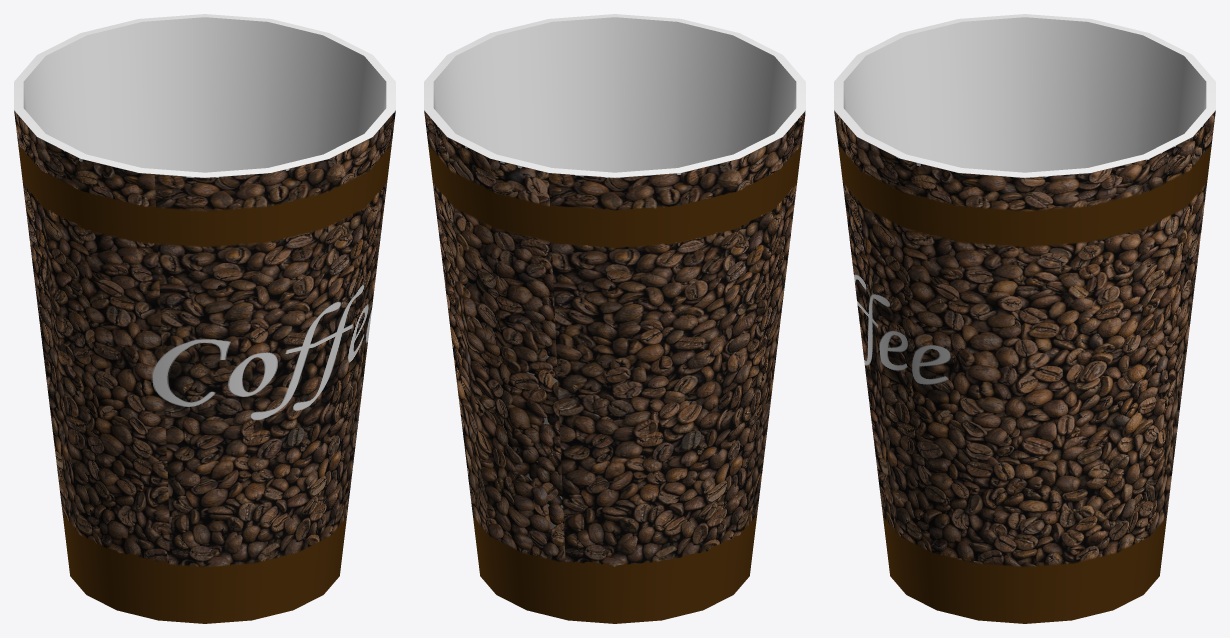
Rendered from Coffee 2.fbx.
3 renders of one model, left to right at view 1: azimuth 30°, elevation 25°; view 2: azimuth 150°, elevation 25°; view 3: azimuth 270°, elevation 25°, orthographic.
Visible parts, largest first — view 1: Coffee 2; view 2: Coffee 2; view 3: Coffee 2.
Part boxes in pixels (box(x1,y1,x2,y2)): Coffee 2: box(14, 14, 395, 623); Coffee 2: box(424, 14, 805, 623); Coffee 2: box(834, 14, 1215, 623).
Size of the model in its own units: 10.51 by 14.1 by 10.35.
Materials: 1 (1 with a texture image).
